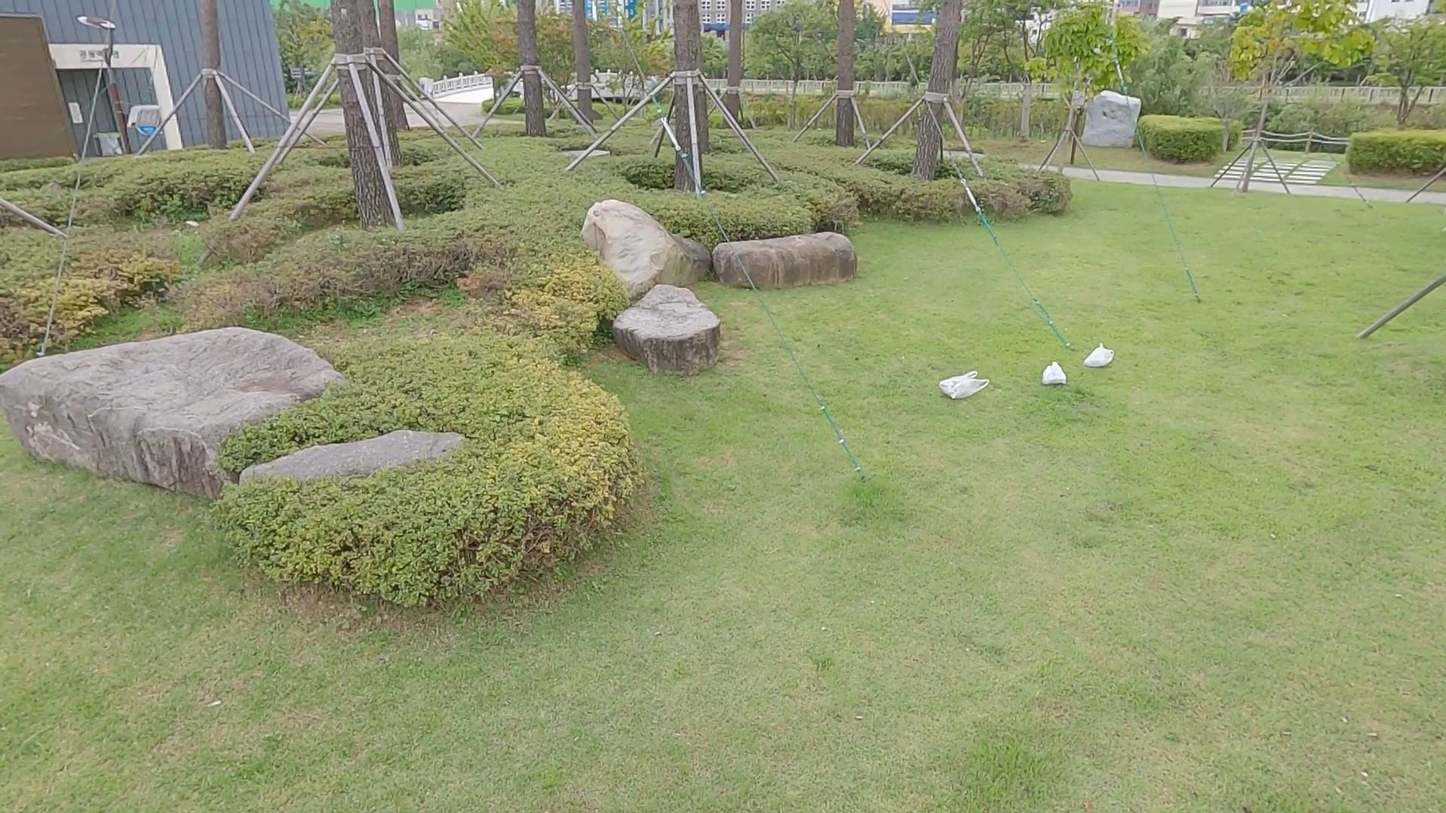trash: (937, 367, 989, 401), (1085, 340, 1116, 371), (1041, 359, 1069, 386)
